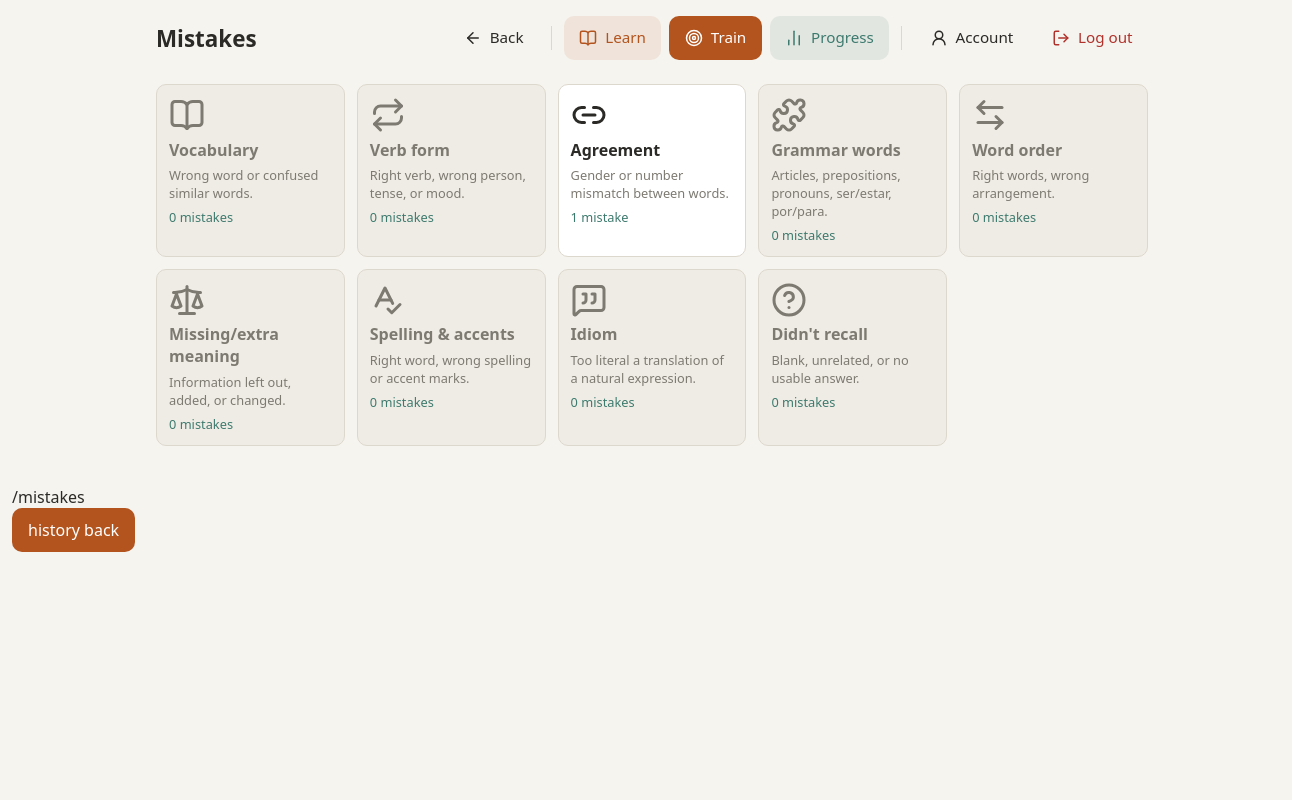
Test: MistakesPage › puts the selected category in the URL
The image size is (1292, 800).
Expected: the text "Agreement" is shown, [571,139,660,161]
Click the button "Agreement Gender or number mismatch between words. 1 mistake".
click(652, 161)  # box [571,97,733,226]
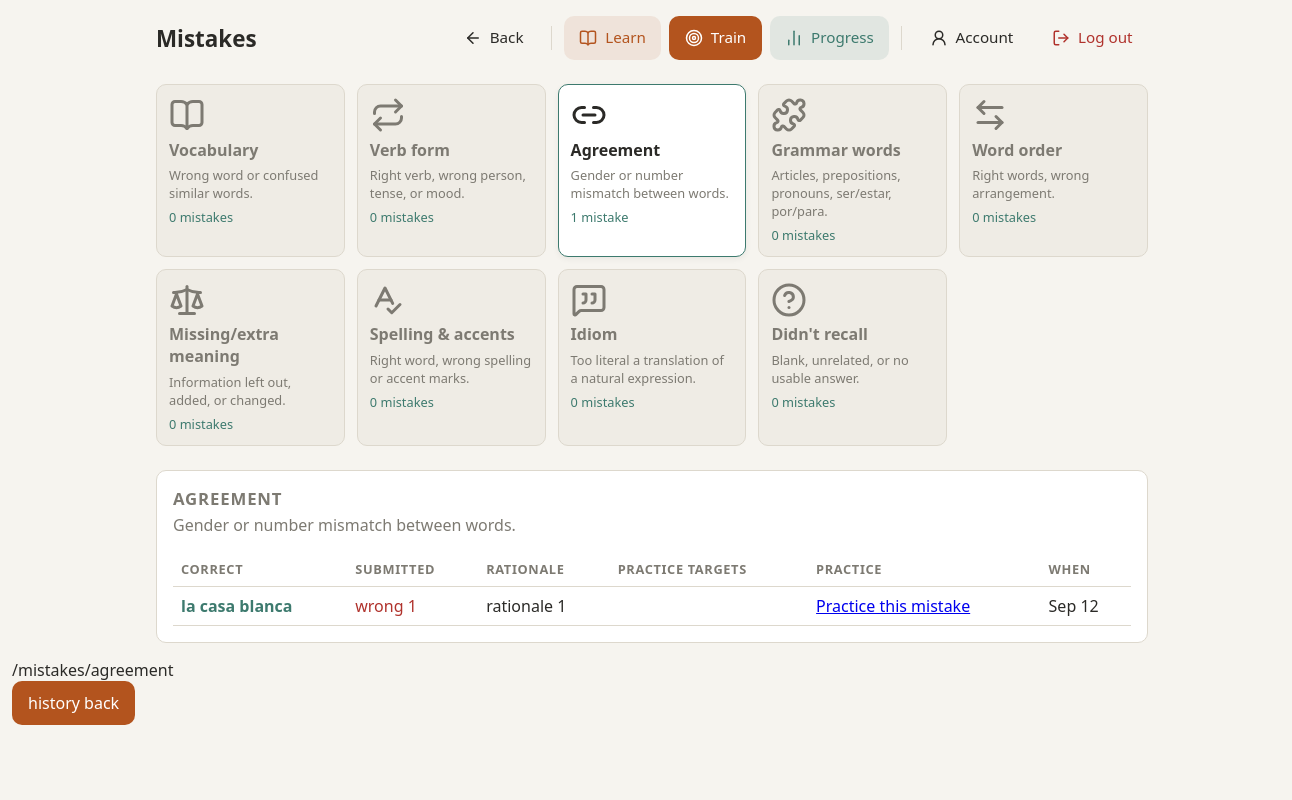
Now the text with test id "location" reads "/mistakes/agreement", box [12,659,174,681]
Now the text "la casa blanca" is shown, box [173,586,347,625]
